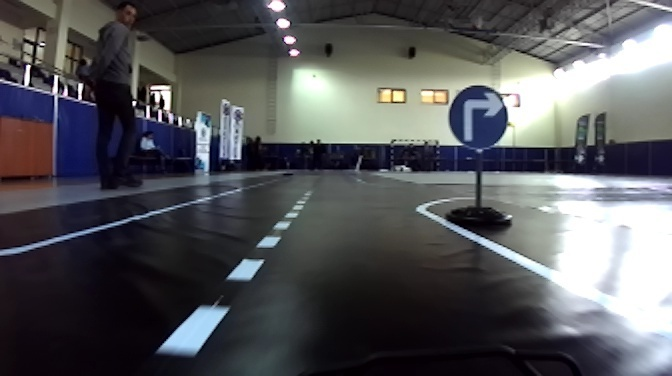saga_donus: (446, 84, 508, 147)
